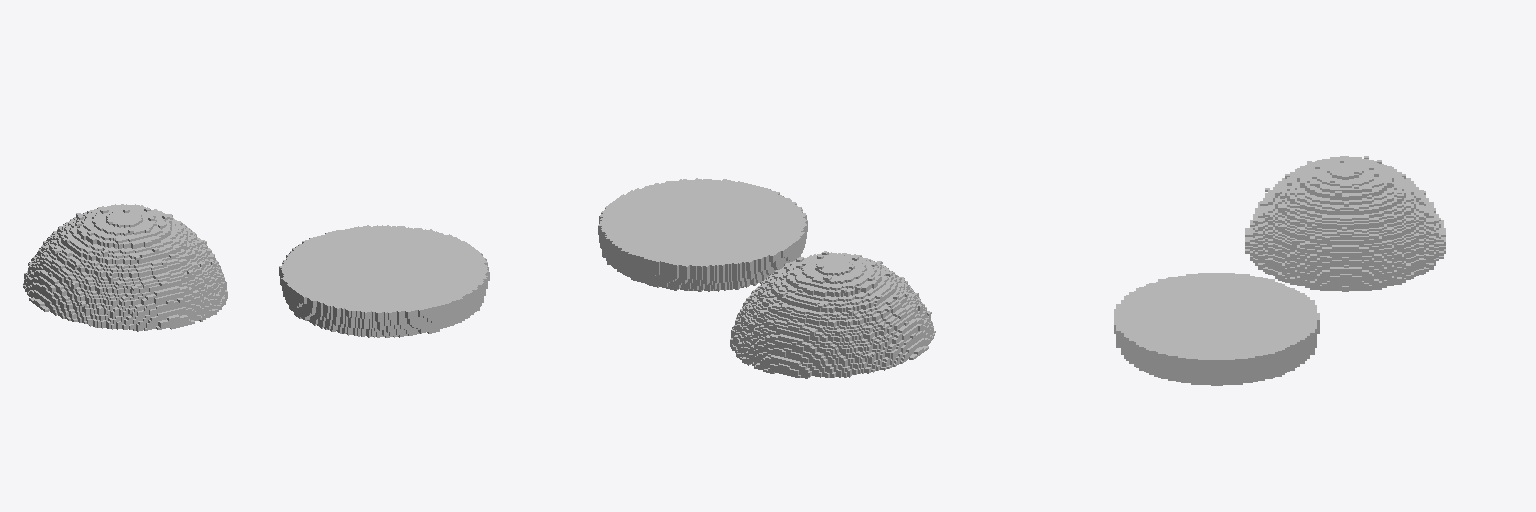
Rendered from PanCortado.obj.
3 views of the same model, side by side, from view 1: azimuth 30°, elevation 25°; view 2: azimuth 150°, elevation 25°; view 3: azimuth 270°, elevation 25° (orthographic).
Parts seen in each view (by area): view 1: object 1; view 2: object 1; view 3: object 1.
Part boxes in pixels (x1,y1,x2,y2): object 1: (23,204,489,337); object 1: (598,178,935,378); object 1: (1114,156,1445,385).
Bounding box in the file's own units: 17.3 × 3.6 × 13.4.